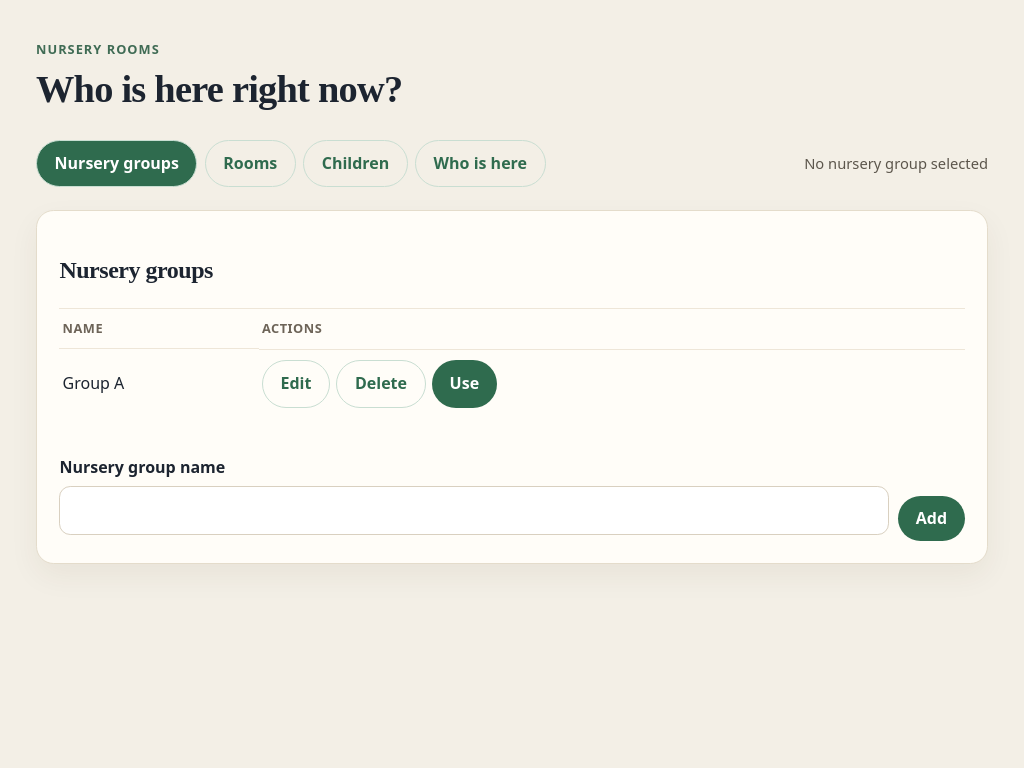
Scenario: directory tables › checks a named child out of the room
Expected: the text "Group A" is shown, [59,349,259,418]
Click the button "Use" at (464, 384), box [432,360,497,408]
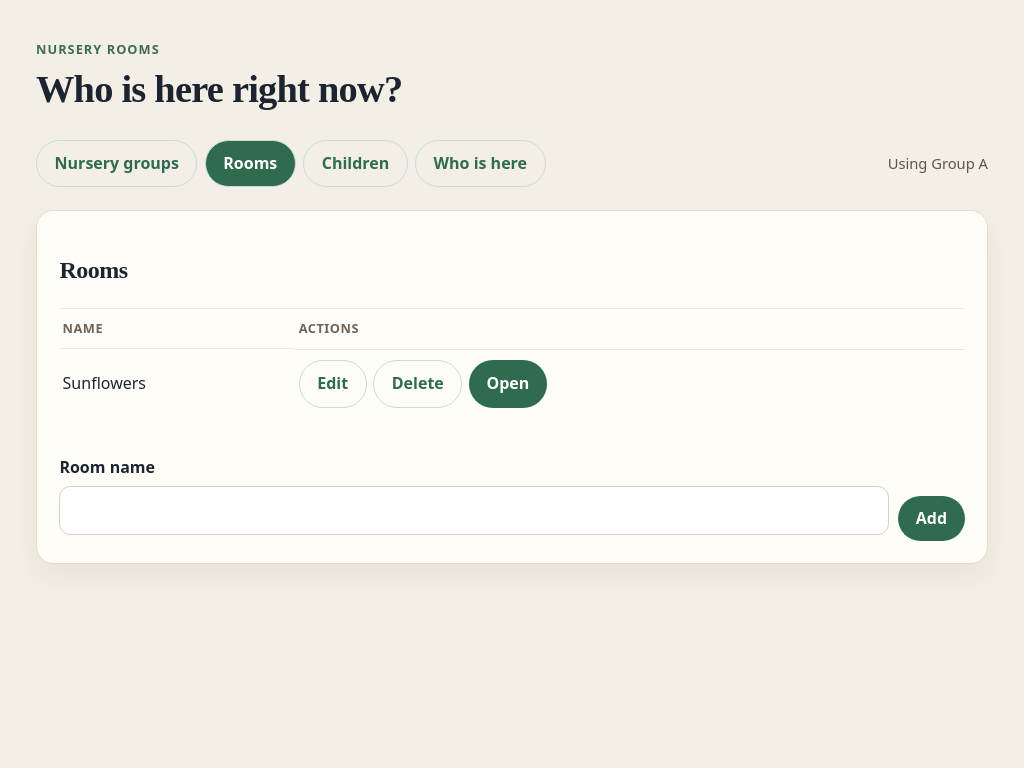
Result: the heading "Rooms" is shown at [59,257,128,283]
Click the button "Open" at (508, 384), box [469,360,547,408]
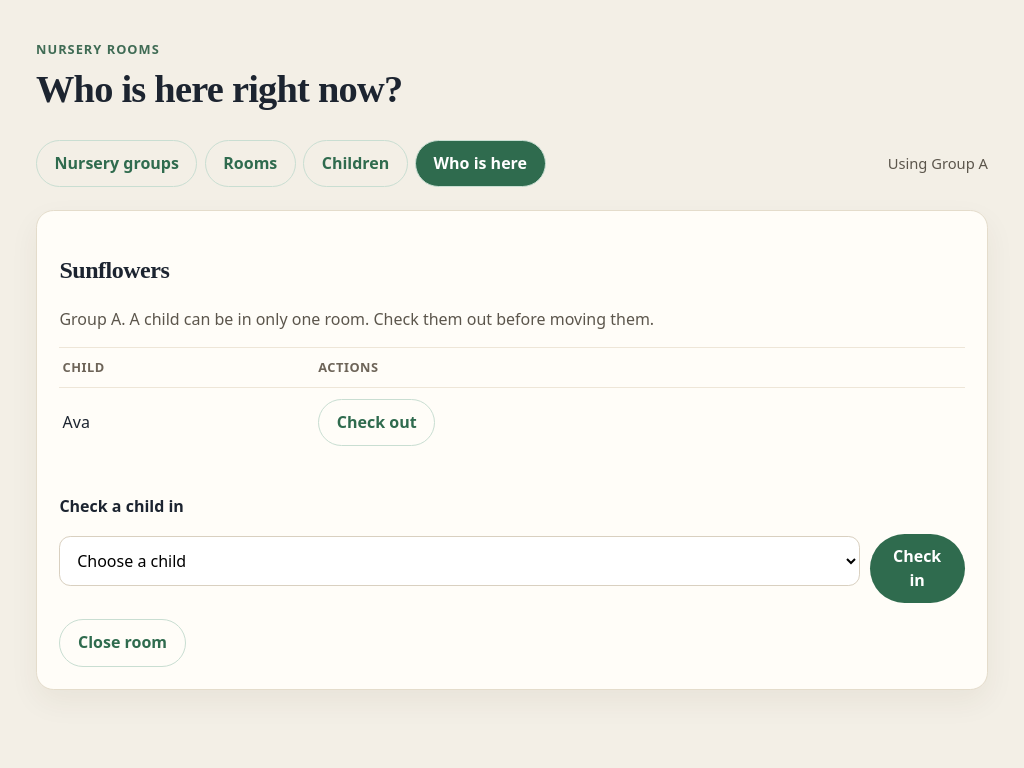
Result: the cell "Ava" is shown at [59,388,315,457]
Click the button "Check out" at (377, 422), box [318,399,435,446]
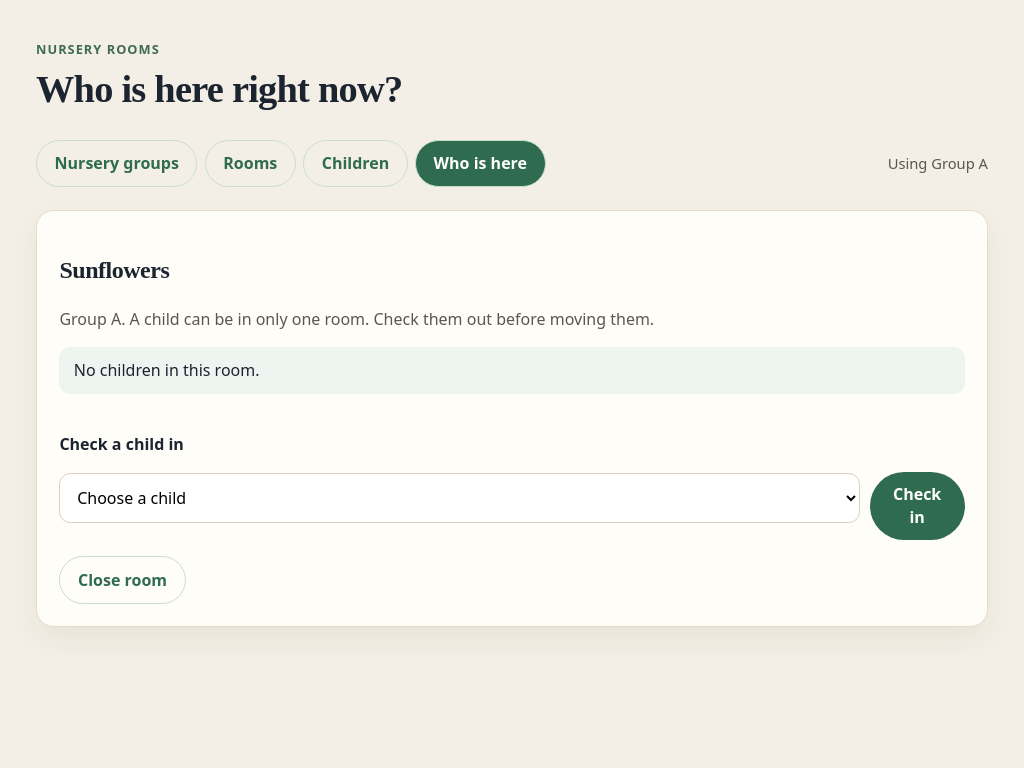
Result: the text "No children in this room." is shown at [59,347,965,394]
